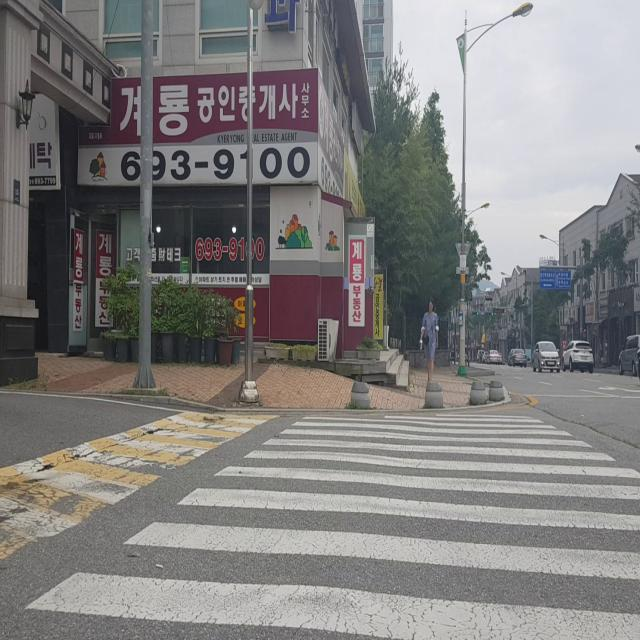횡단보도: (20, 403, 640, 640)
